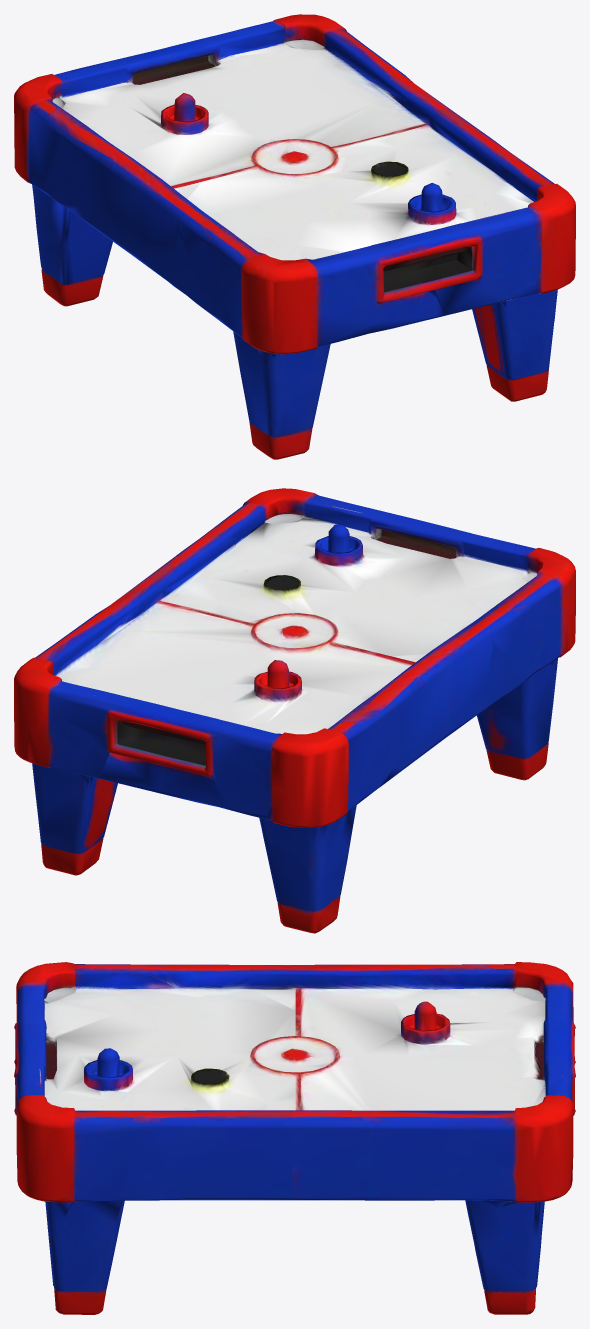
File: hockey.glb
3 renders of one model, top to bottom at view 1: azimuth 30°, elevation 25°; view 2: azimuth 150°, elevation 25°; view 3: azimuth 270°, elevation 25°, orthographic. The views are drawn at different scales.
Visible parts, largest first — view 1: tripo_node_2072456d-8837-4863-bc2c-942e31373799; view 2: tripo_node_2072456d-8837-4863-bc2c-942e31373799; view 3: tripo_node_2072456d-8837-4863-bc2c-942e31373799.
Boxes of the visible parts, x1,y1,x2,y2 form: tripo_node_2072456d-8837-4863-bc2c-942e31373799: (14, 14, 575, 459); tripo_node_2072456d-8837-4863-bc2c-942e31373799: (14, 488, 575, 933); tripo_node_2072456d-8837-4863-bc2c-942e31373799: (14, 962, 575, 1314).
Bounding box in the file's own units: 0.6704 × 0.4265 × 0.9839.
1 material, 1 textured.
